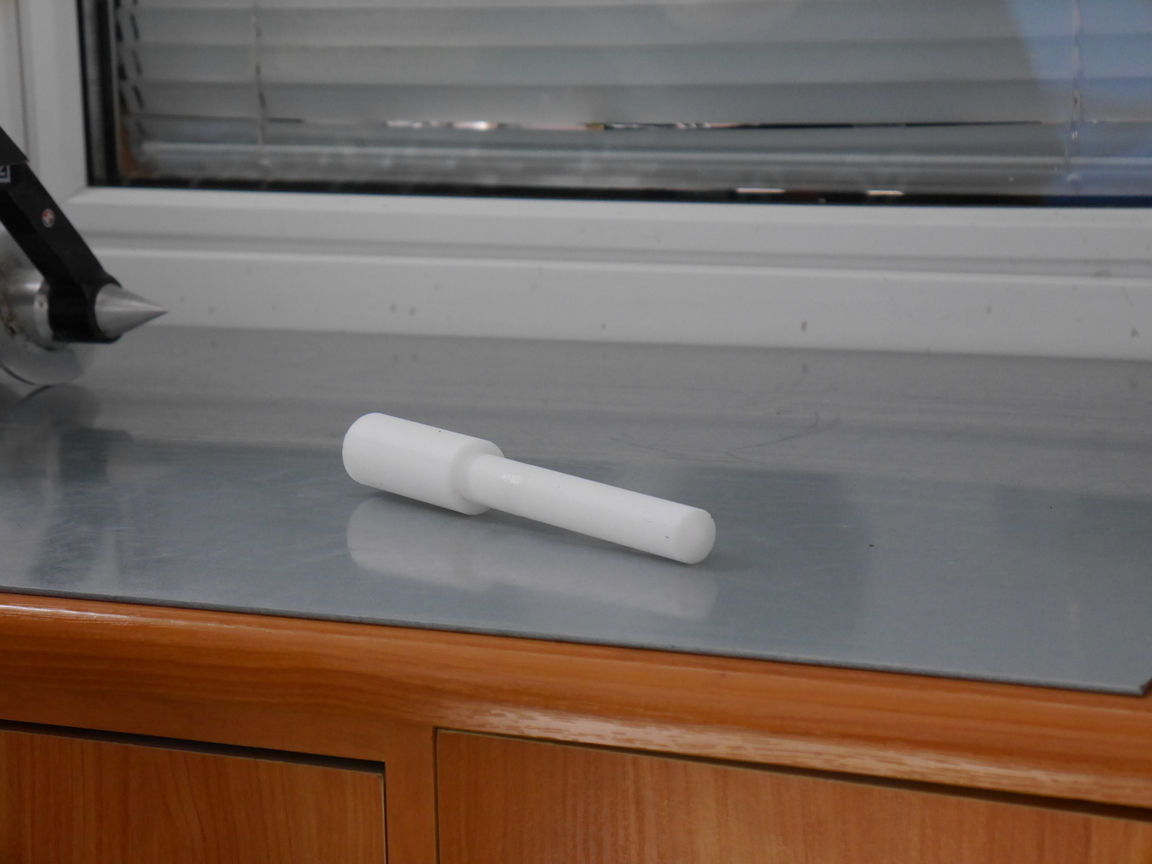cargo_g: (340, 411, 717, 566)
